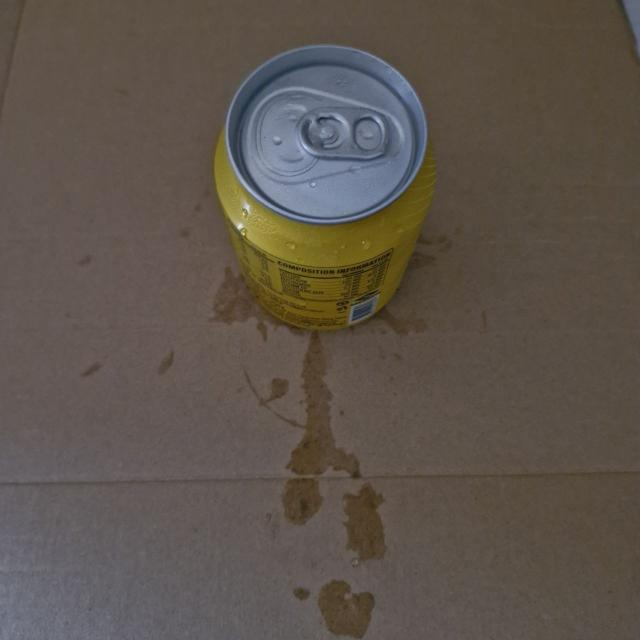metal: (210, 41, 442, 341)
